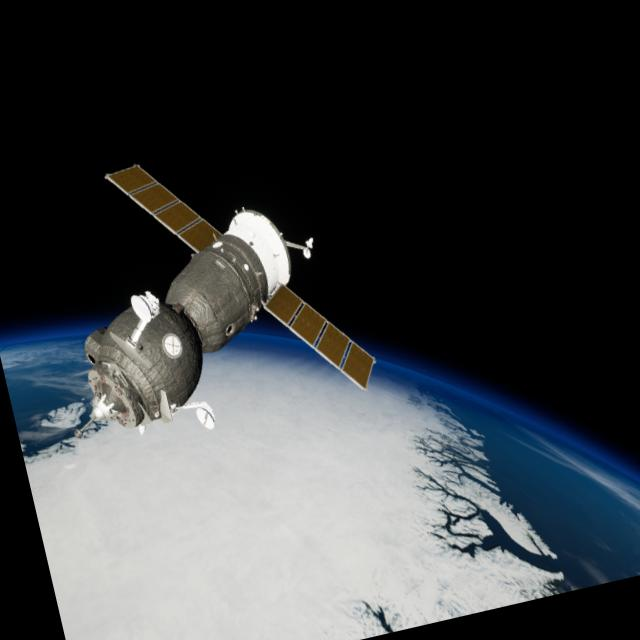Satellites revolving around earth: (21, 115, 386, 462)
